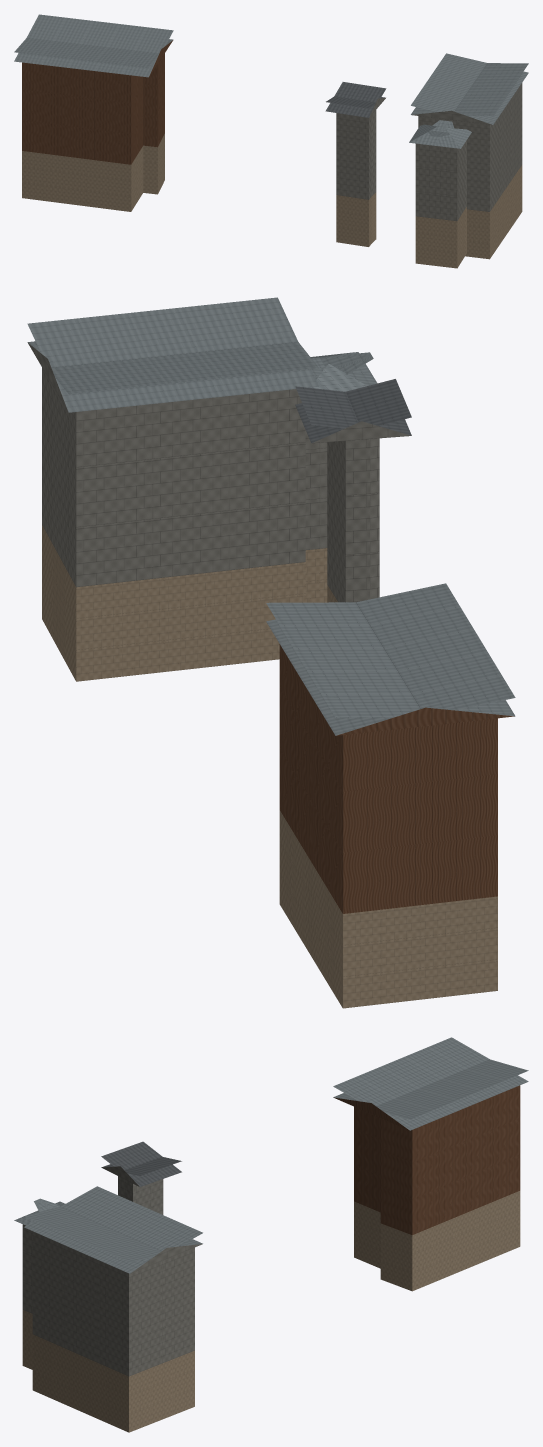
File: bld_c39_46_197.gltf
3 renders of one model, top to bottom at view 1: azimuth 30°, elevation 25°; view 2: azimuth 150°, elevation 25°; view 3: azimuth 270°, elevation 25°, orthographic. The views are drawn at different scales.
Visible parts, largest first — view 1: bld_c39_46_197; view 2: bld_c39_46_197; view 3: bld_c39_46_197.
Part boxes in pixels (box(x1,y1,x2,y2)): bld_c39_46_197: box(14, 14, 528, 268); bld_c39_46_197: box(27, 297, 515, 1008); bld_c39_46_197: box(14, 1037, 528, 1432).
Size of the model in its own units: 42.89 by 16.4 by 42.41.
7 materials, 7 textured.
